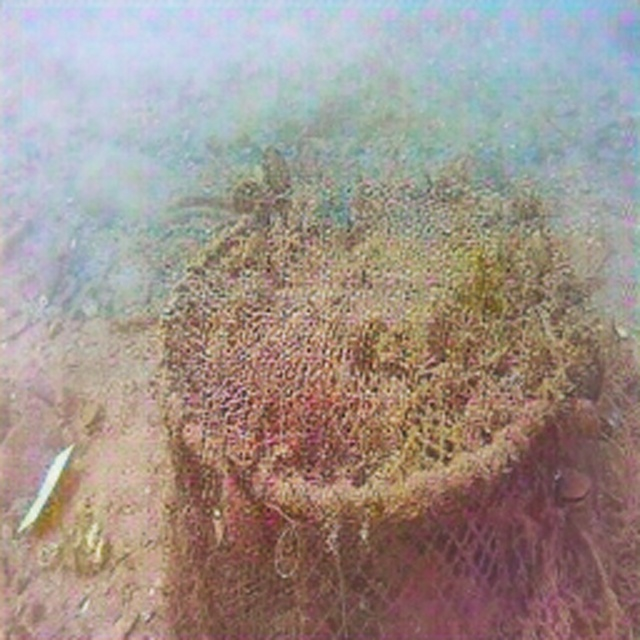mine: (154, 174, 572, 639)
